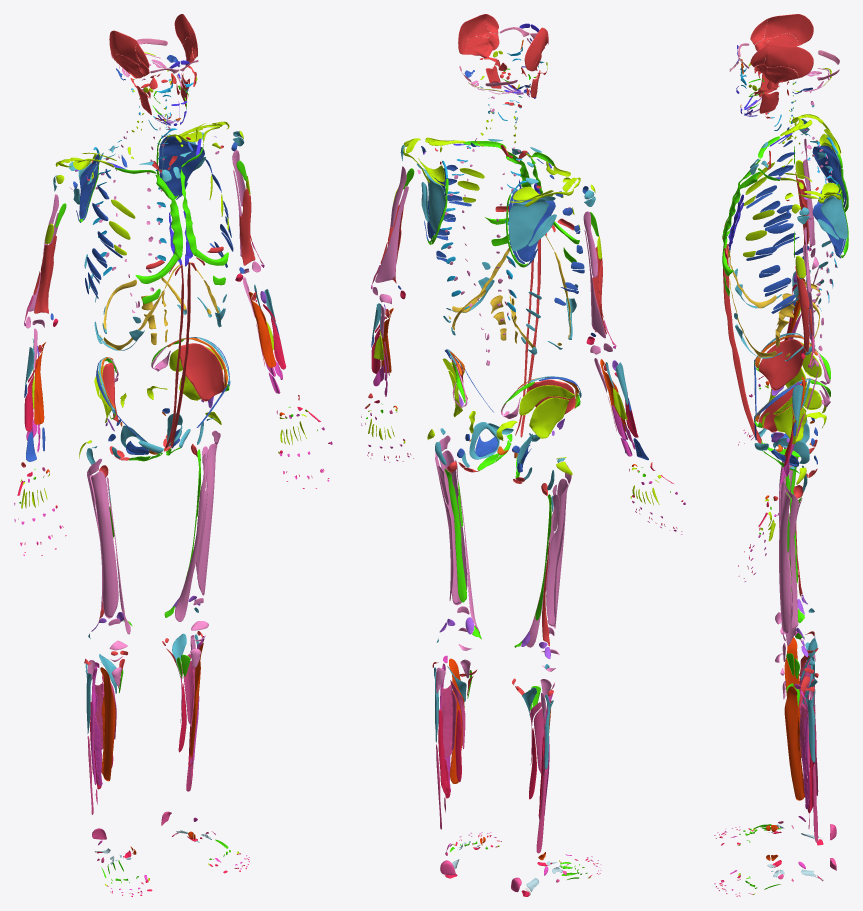
The model's file is muscle-insertions.glb.
3 views of the same model, side by side, from view 1: azimuth 30°, elevation 25°; view 2: azimuth 150°, elevation 25°; view 3: azimuth 270°, elevation 25° (orthographic). The views are drawn at different scales.
Parts seen in each view (by area): view 1: Vastus intermedius muscle.or, Iliacus muscle.ol, Subscapularis muscle.ol, Vastus intermedius muscle.ol, Tibialis anterior muscle.or, Vastus medialis muscle.ol, Brachialis muscle.or, Brachialis muscle.ol, Ulnar head of flexor carpi ulnaris.ol, Rectus abdominis muscle.el, Temporalis muscle.o2r; view 2: Infraspinatus muscle.or, Vastus intermedius muscle.ol, Vastus lateralis muscle.or, Gluteus minimus muscle.or, Adductor magnus.el, Medial head of triceps brachii.ol, Tibialis posterior muscle.ol, Gluteus medius muscle.or, Infraspinatus muscle.ol, Vastus intermedius muscle.or, Temporalis muscle.o2l; view 3: Iliacus muscle.or, Tibialis anterior muscle.ol, Vastus intermedius muscle.ol, Temporalis muscle.o2l, Temporalis muscle.o2r, Rectus abdominis muscle.el, Vastus lateralis muscle.ol, Infraspinatus muscle.ol, Subscapularis muscle.or, Gluteus minimus muscle.ol, Brachialis muscle.ol, Iliacus muscle.ol (+17 smaller).
Boxes of the visible parts, x1,y1,x2,y2 form: Vastus intermedius muscle.or: [91, 471, 118, 618]; Iliacus muscle.ol: [180, 343, 224, 401]; Subscapularis muscle.ol: [163, 136, 204, 196]; Vastus intermedius muscle.ol: [197, 443, 217, 595]; Tibialis anterior muscle.or: [100, 667, 115, 781]; Vastus medialis muscle.ol: [175, 453, 206, 621]; Brachialis muscle.or: [34, 235, 56, 313]; Brachialis muscle.ol: [239, 188, 255, 265]; Ulnar head of flexor carpi ulnaris.ol: [248, 292, 276, 367]; Rectus abdominis muscle.el: [170, 262, 190, 446]; Temporalis muscle.o2r: [109, 30, 139, 64]; Infraspinatus muscle.or: [508, 196, 555, 251]; Vastus intermedius muscle.ol: [439, 450, 467, 605]; Vastus lateralis muscle.or: [546, 465, 571, 626]; Gluteus minimus muscle.or: [529, 397, 569, 438]; Adductor magnus.el: [444, 469, 481, 639]; Medial head of triceps brachii.ol: [375, 186, 408, 282]; Tibialis posterior muscle.ol: [441, 684, 456, 757]; Gluteus medius muscle.or: [519, 385, 574, 415]; Infraspinatus muscle.ol: [417, 163, 445, 231]; Vastus intermedius muscle.or: [553, 478, 567, 628]; Temporalis muscle.o2l: [458, 14, 489, 54]; Iliacus muscle.or: [758, 339, 805, 390]; Tibialis anterior muscle.ol: [784, 686, 804, 800]; Vastus intermedius muscle.ol: [779, 490, 790, 634]; Temporalis muscle.o2l: [764, 44, 813, 77]; Temporalis muscle.o2r: [764, 14, 813, 45]; Rectus abdominis muscle.el: [723, 247, 761, 443]; Vastus lateralis muscle.ol: [783, 479, 798, 629]; Infraspinatus muscle.ol: [820, 194, 847, 239]; Subscapularis muscle.or: [812, 145, 844, 202]; Gluteus minimus muscle.ol: [774, 405, 806, 441]; Brachialis muscle.ol: [795, 266, 809, 352]; Iliacus muscle.ol: [758, 382, 805, 432].
Bounding box in the file's own units: 0.6605 × 1.65 × 0.2414.
